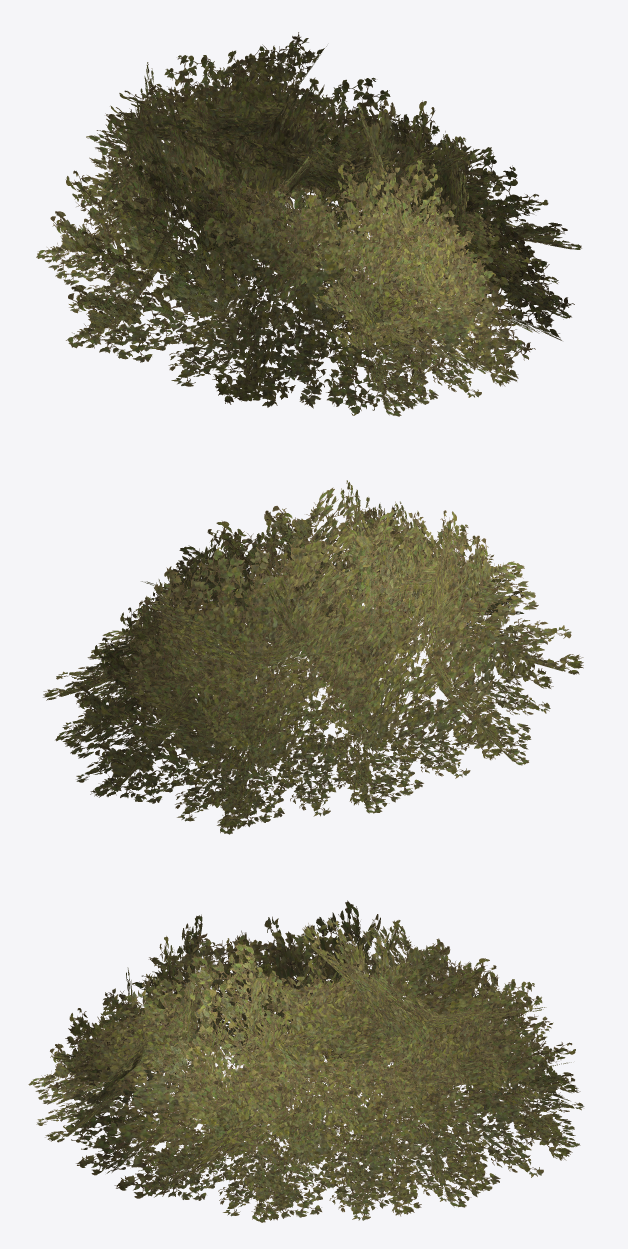
File: shrb_giantlickbush_ltgreen_l1.fbx
The picture shows the model from 3 angles, top to bottom: view 1: azimuth 30°, elevation 25°; view 2: azimuth 150°, elevation 25°; view 3: azimuth 270°, elevation 25°; orthographic projection. The views are drawn at different scales.
Parts seen in each view (by area): view 1: mesh_node; view 2: mesh_node; view 3: mesh_node.
Part boxes in pixels (x1,y1,x2,y2): mesh_node: (36, 32, 581, 416); mesh_node: (43, 480, 583, 834); mesh_node: (28, 900, 584, 1222).
Size of the model in its own units: 5.81 by 2.95 by 6.6.
